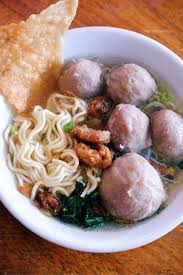bakso: (55, 56, 183, 197)
